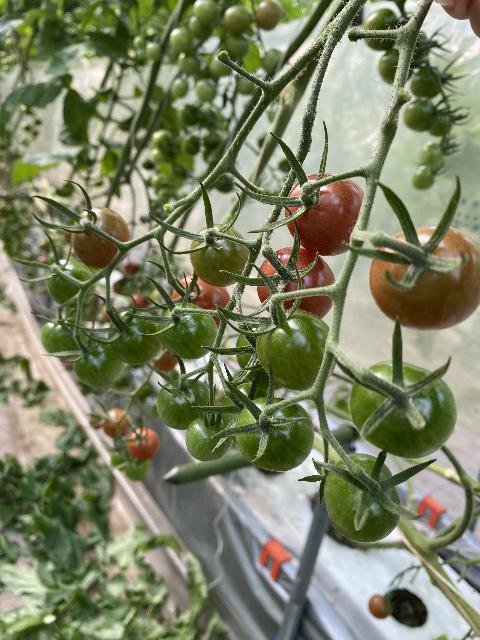l_fully_ripened: (284, 172, 370, 256), (257, 247, 337, 320), (172, 274, 233, 329)
l_green: (349, 361, 457, 458), (322, 452, 404, 543), (255, 307, 338, 391), (236, 397, 314, 472), (189, 223, 249, 288), (158, 301, 220, 360), (235, 319, 284, 390), (222, 382, 275, 443), (110, 307, 164, 364), (156, 378, 214, 430), (45, 256, 97, 309), (73, 337, 126, 386), (186, 417, 233, 461), (40, 318, 90, 358)
l_half_ripened: (368, 224, 480, 330), (70, 206, 131, 270)
